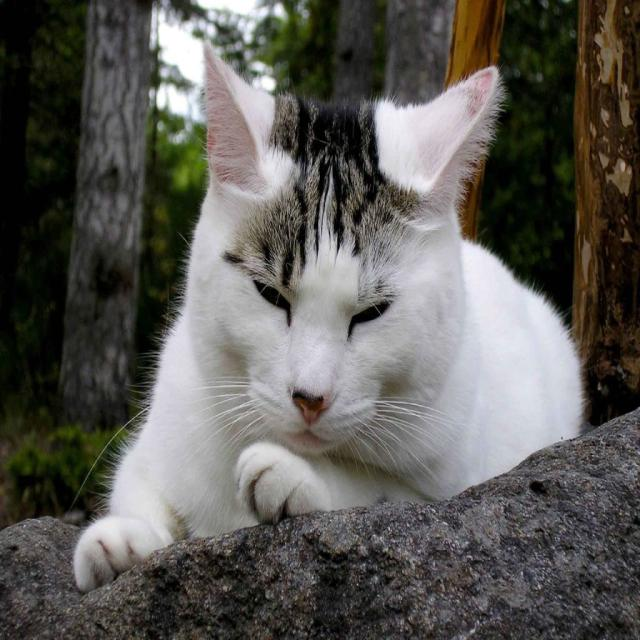Cat: (68, 35, 584, 595)
